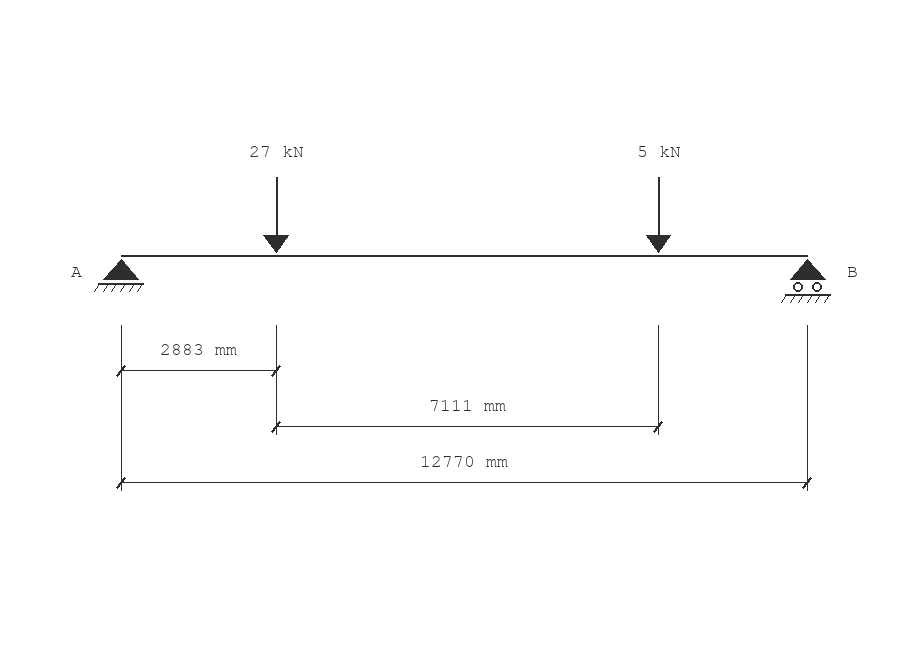pin_support: (94, 259, 144, 292)
point_load: (263, 177, 289, 253), (646, 177, 671, 253)
roller_support: (781, 259, 831, 303)
